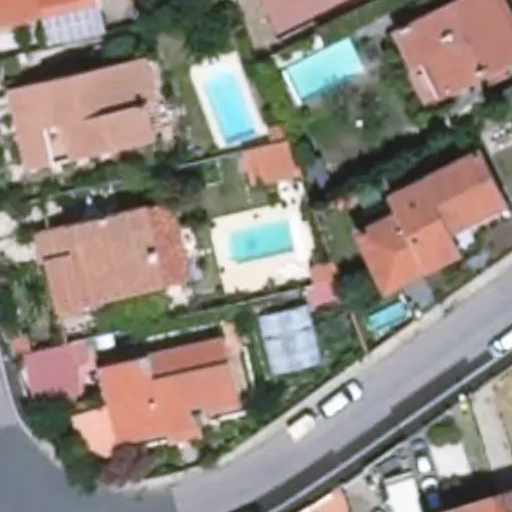pool: (218, 229, 293, 253)
